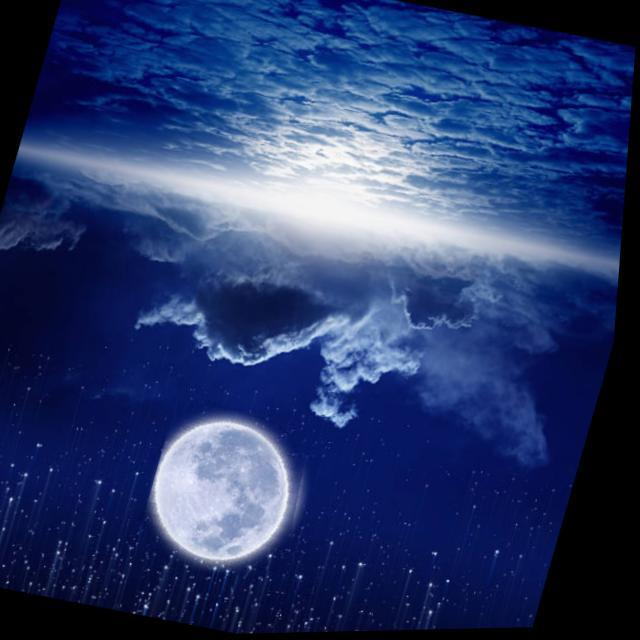moon: (139, 398, 333, 584)
